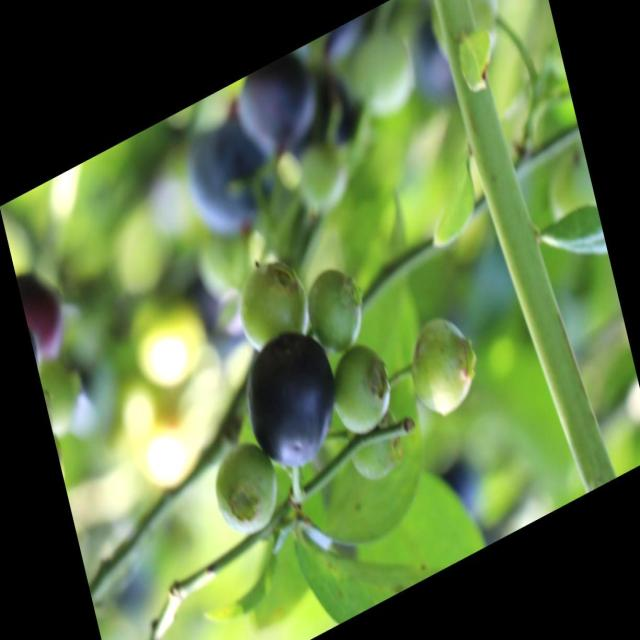blueberry: (233, 312, 348, 486), (178, 105, 278, 254), (227, 45, 325, 173), (15, 252, 74, 364)
blueberry-unripe: (400, 306, 482, 428), (230, 251, 312, 360), (207, 438, 283, 548), (326, 335, 396, 441), (304, 259, 366, 364), (346, 407, 407, 487)
